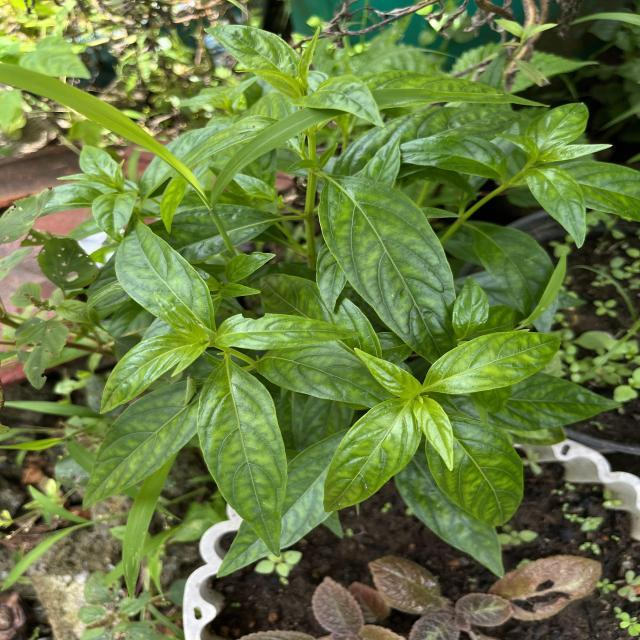Andrographis paniculata: (316, 180, 456, 354), (194, 358, 290, 559), (82, 379, 200, 512), (424, 412, 526, 528), (320, 397, 420, 515), (116, 225, 215, 336), (455, 372, 624, 432), (423, 330, 562, 396), (98, 334, 186, 414), (214, 312, 364, 352), (523, 166, 587, 248), (353, 345, 422, 398), (414, 396, 456, 472)
